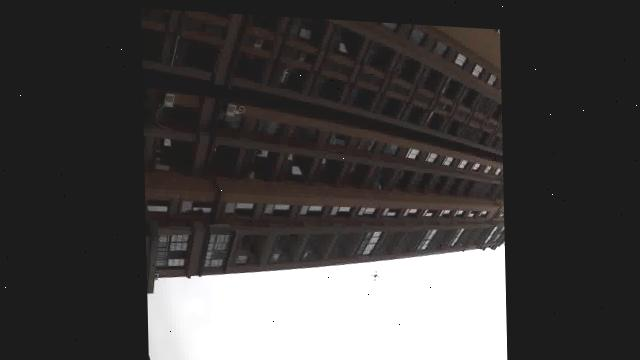drone: (362, 262, 387, 279)
